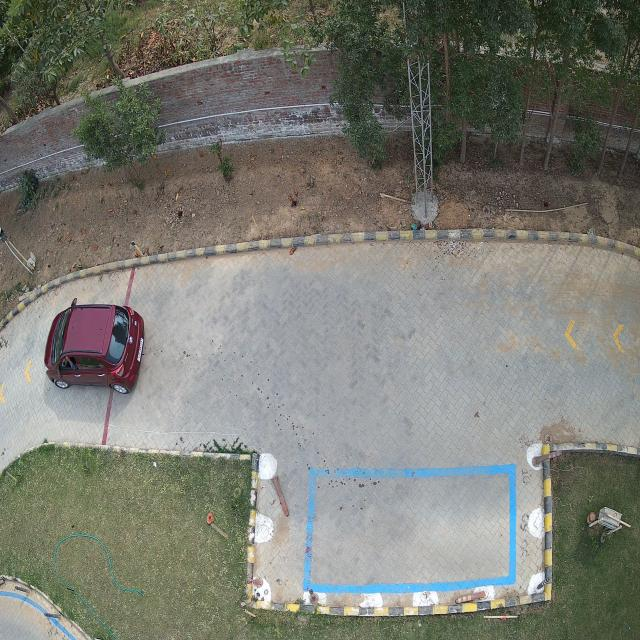car: (45, 298, 145, 393)
